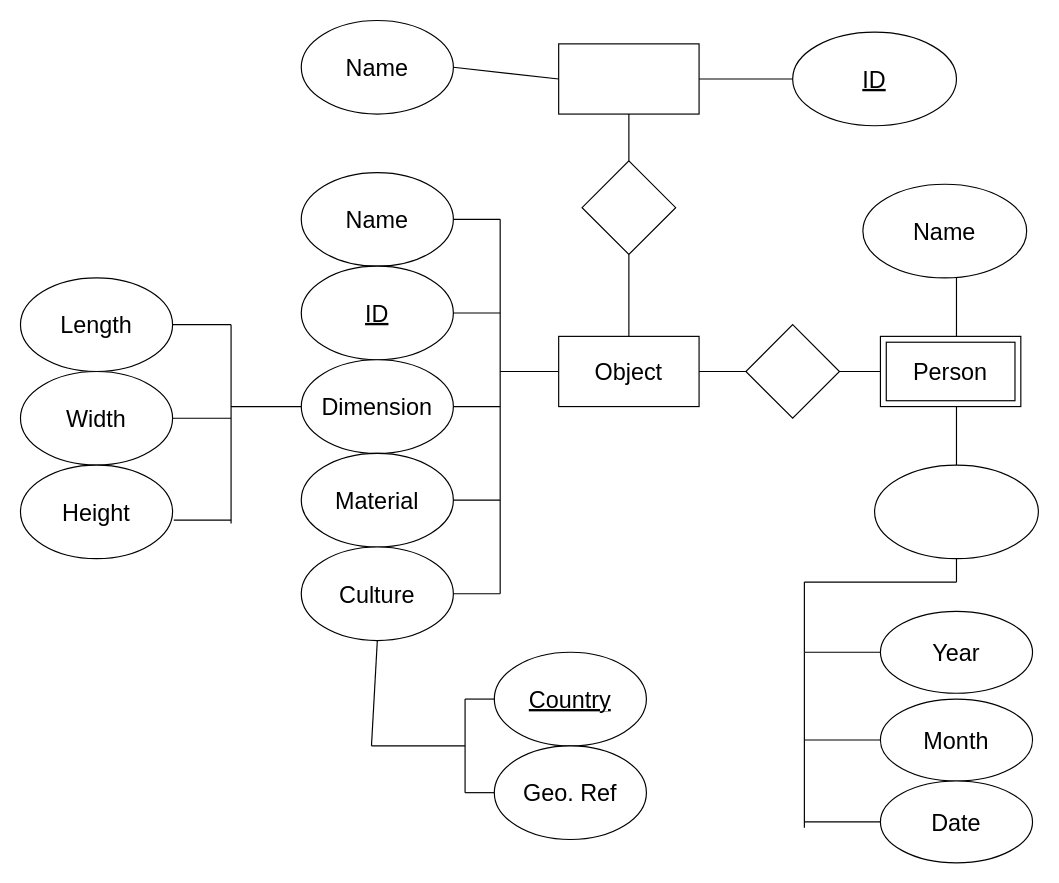
Some shapes in this 1059 by 883 pixel diagram are drawn without their labels. Here are the shapes that lost their labels. From the top down, the box of each, then its label:
(558, 43, 699, 114): Museum
(581, 160, 676, 254): Has
(745, 324, 839, 418): Acquired By
(873, 464, 1038, 559): Acquisition Date
